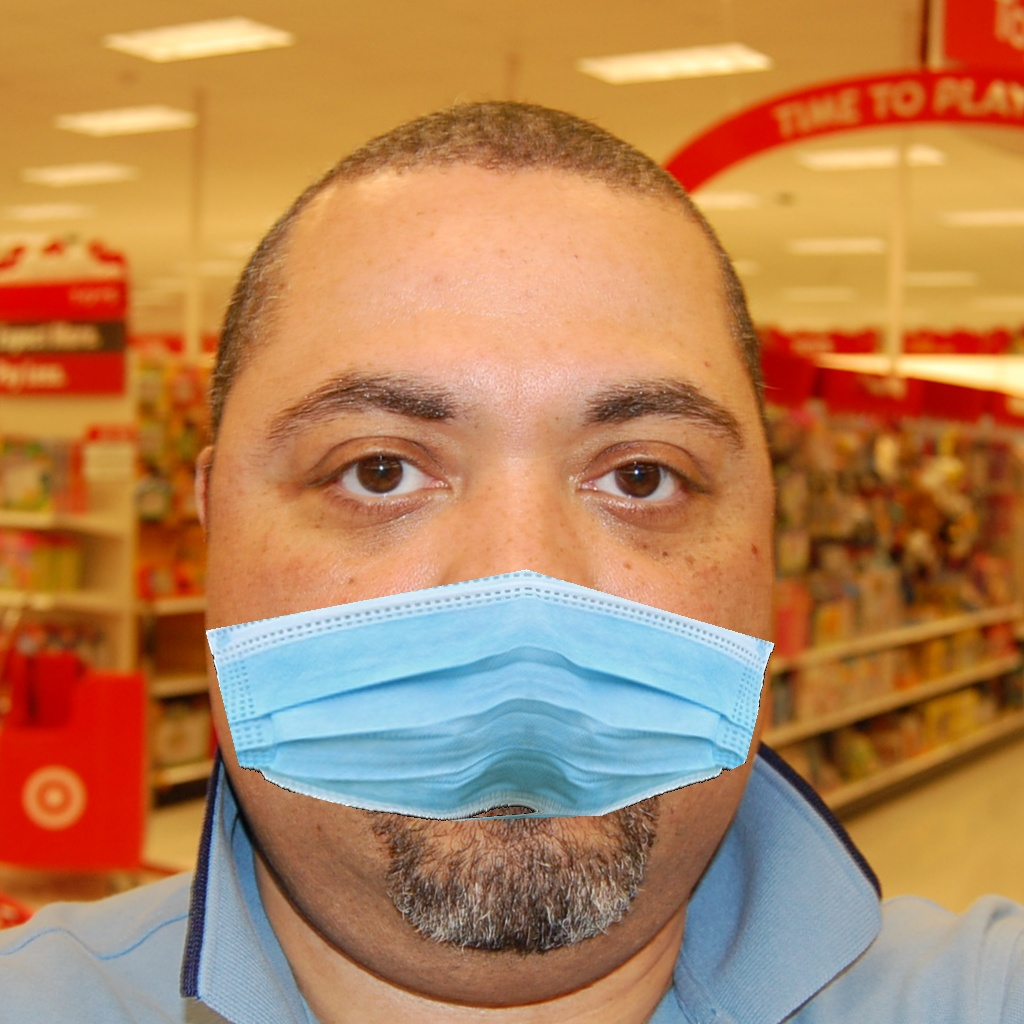mask_weared_incorrect: (233, 374, 753, 951)
